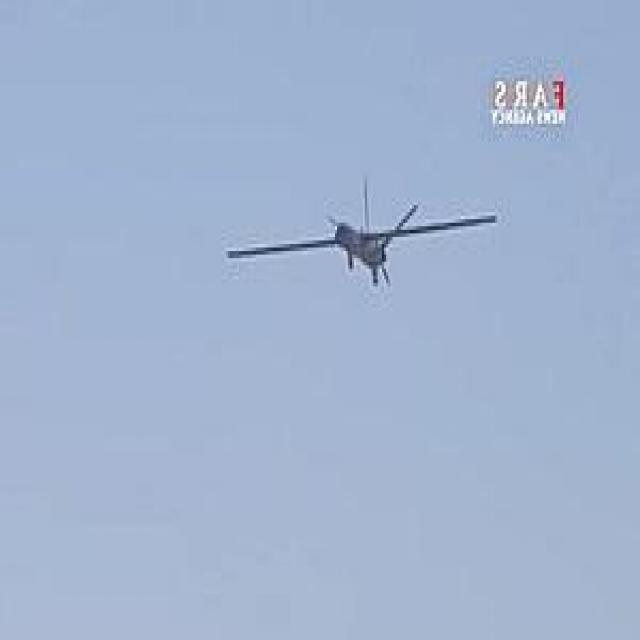iha: (221, 225, 540, 255)
